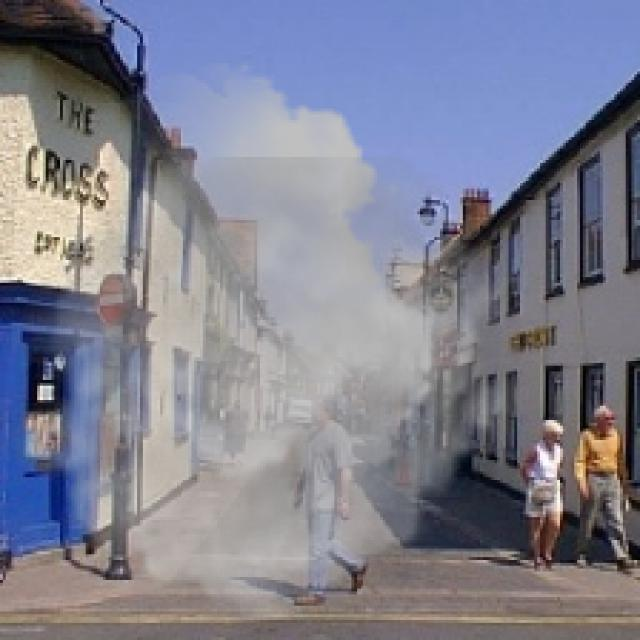smoke: (11, 63, 528, 620)
